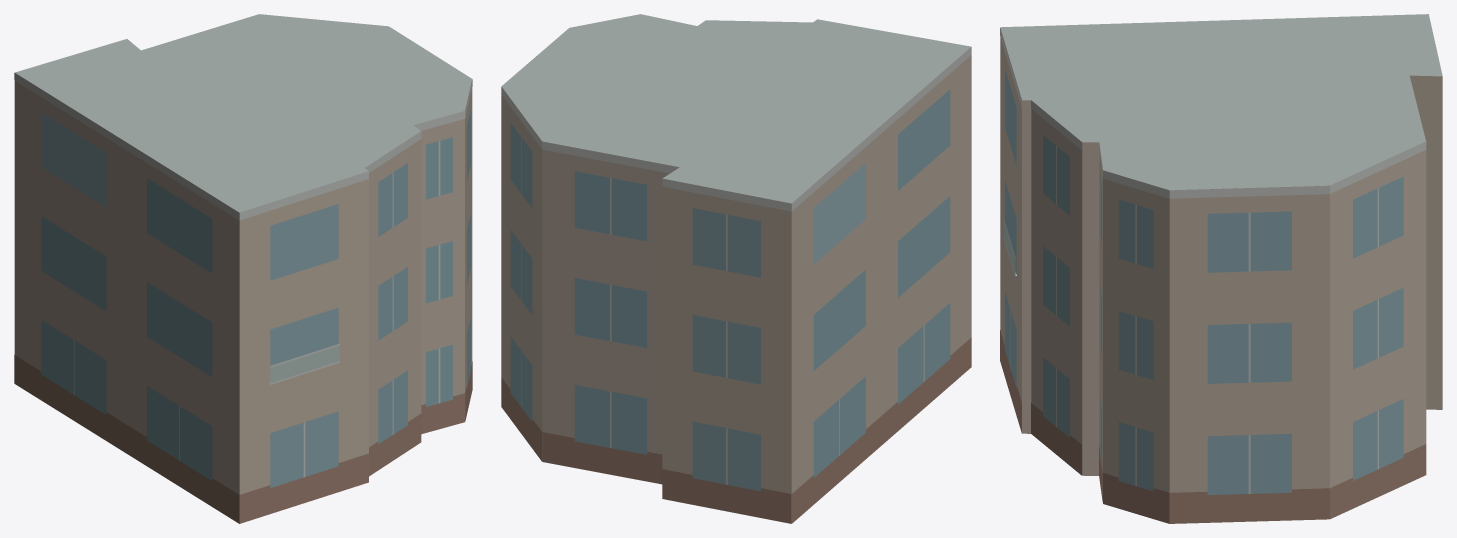
The model's file is survey-upis-32535127.glb.
3 views of the same model, side by side, from view 1: azimuth 30°, elevation 25°; view 2: azimuth 150°, elevation 25°; view 3: azimuth 270°, elevation 25° (orthographic). The views are drawn at different scales.
Visible parts, largest first — view 1: survey-upis-32535127.tmp; view 2: survey-upis-32535127.tmp; view 3: survey-upis-32535127.tmp.
Part boxes in pixels (<box>): survey-upis-32535127.tmp: <box>14,14,472,523</box>; survey-upis-32535127.tmp: <box>501,14,971,523</box>; survey-upis-32535127.tmp: <box>1000,14,1442,523</box>.
Size of the model in its own units: 11 by 9.7 by 11.67.
